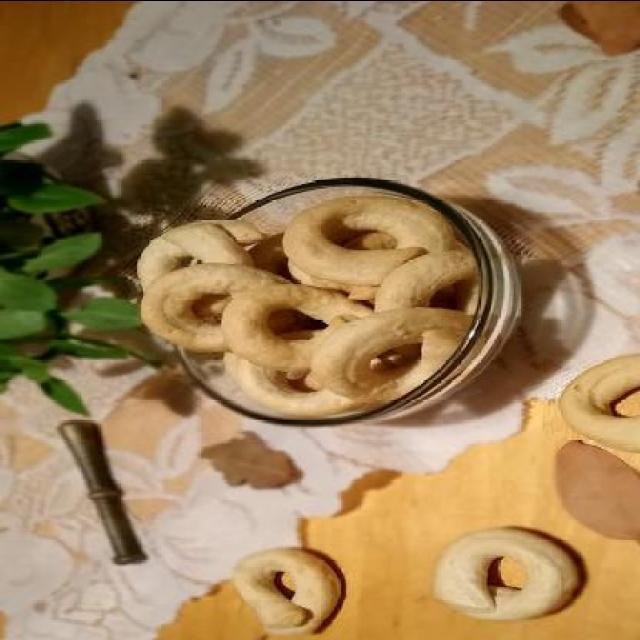Taralli: (135, 193, 467, 416), (430, 522, 579, 620), (232, 546, 343, 634)
